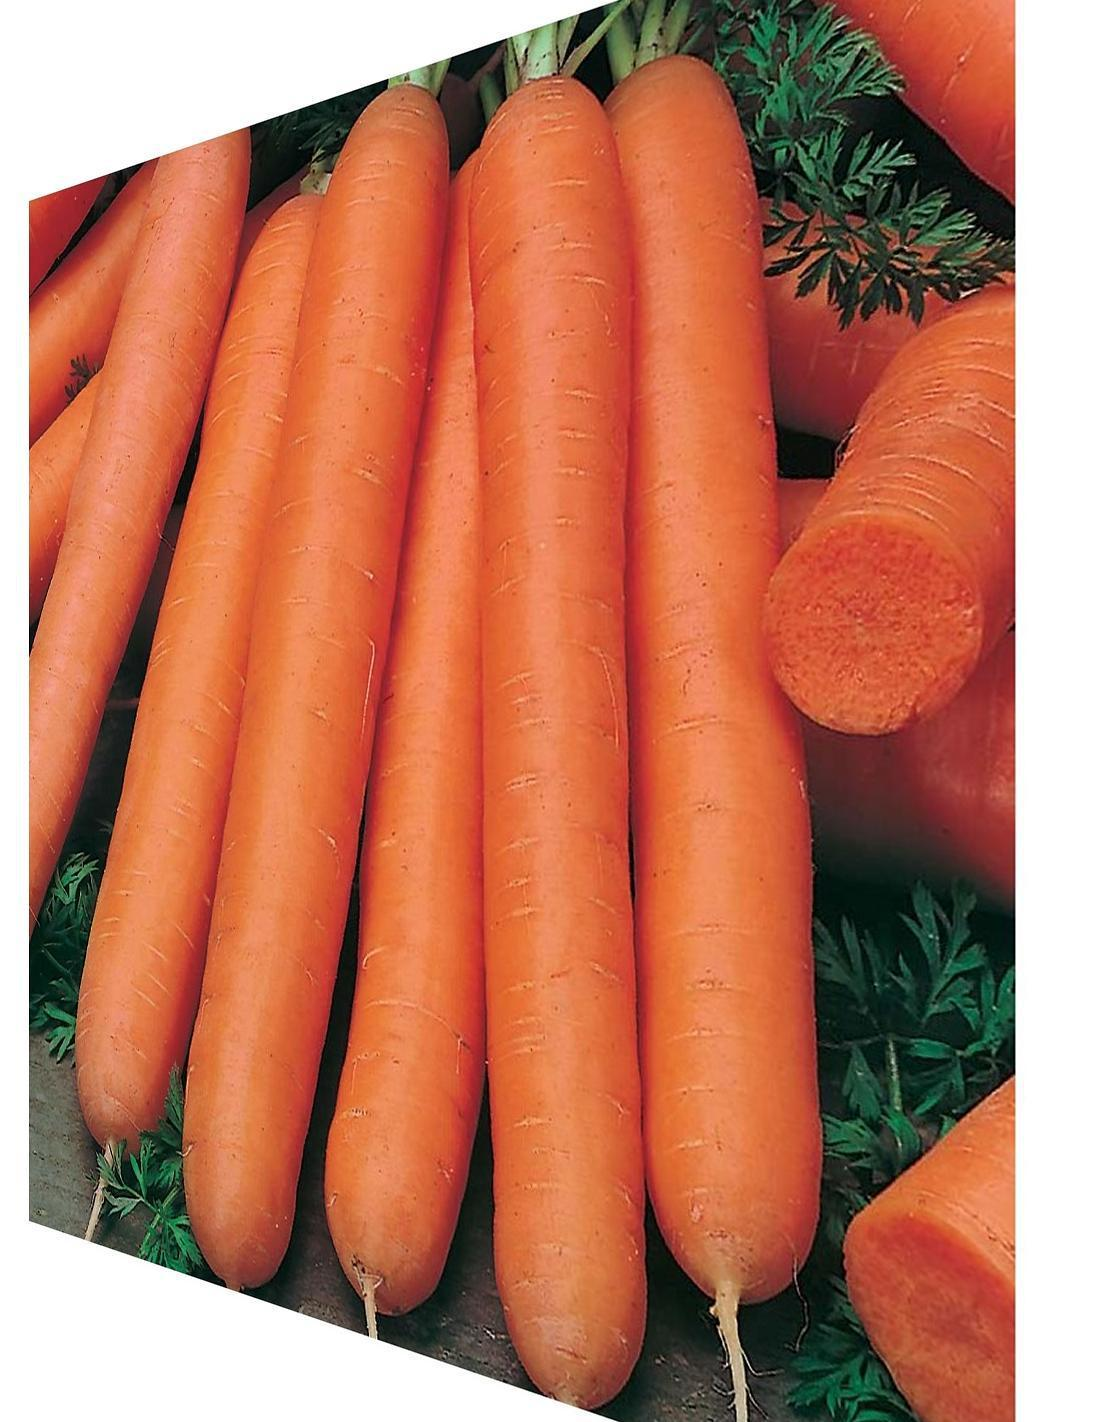carrot: (339, 90, 918, 1414), (42, 202, 544, 1278), (519, 68, 764, 1368), (781, 262, 1008, 862), (825, 1054, 1008, 1420)
